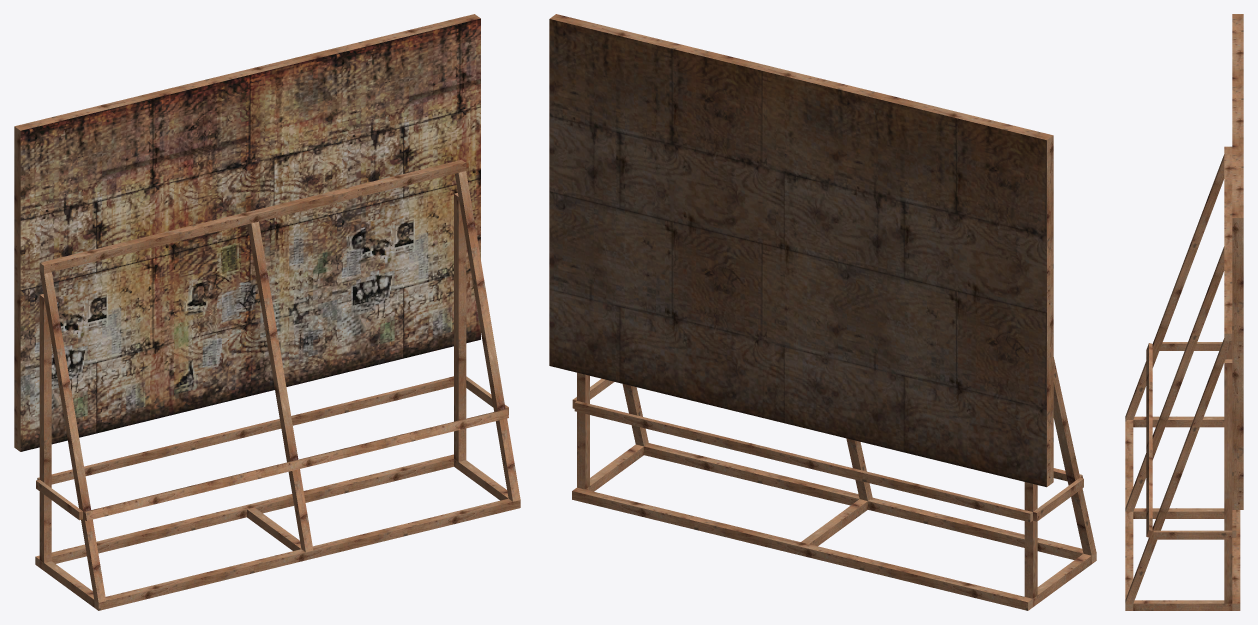
File: lrgtall_rooftop.fbx
The picture shows the model from 3 angles, left to right: view 1: azimuth 30°, elevation 25°; view 2: azimuth 150°, elevation 25°; view 3: azimuth 270°, elevation 25°; orthographic projection. The views are drawn at different scales.
Visible parts, largest first — view 1: mesh_1, mesh_2, mesh_0; view 2: mesh_0, mesh_2; view 3: mesh_2, mesh_0.
Boxes of the visible parts, x1,y1,x2,y2 form: mesh_1: (20,18,480,451); mesh_2: (35,159,520,610); mesh_0: (14,14,480,451); mesh_0: (549,14,1053,487); mesh_2: (572,357,1096,610); mesh_2: (1125,146,1240,610); mesh_0: (1232,14,1243,509).
Size of the model in its own units: 600 by 550 by 147.
2 materials, 2 textured.
